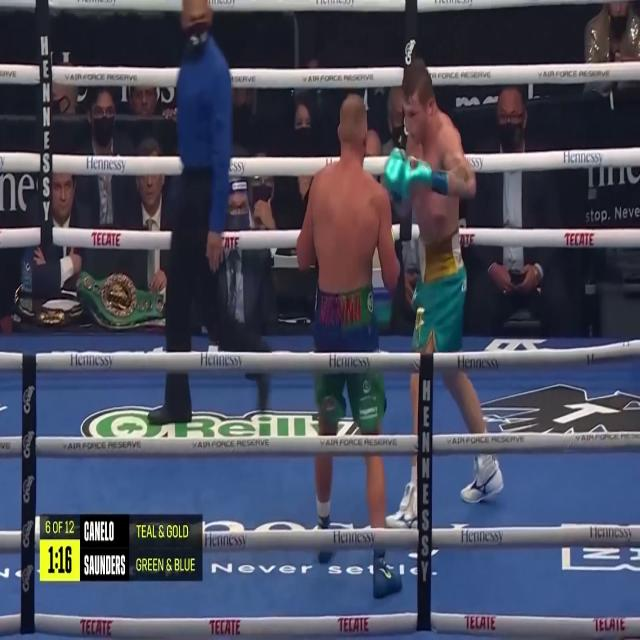boxer_1: (297, 93, 400, 292)
boxer_2: (403, 57, 477, 243)
gloves_2: (385, 146, 449, 198)
